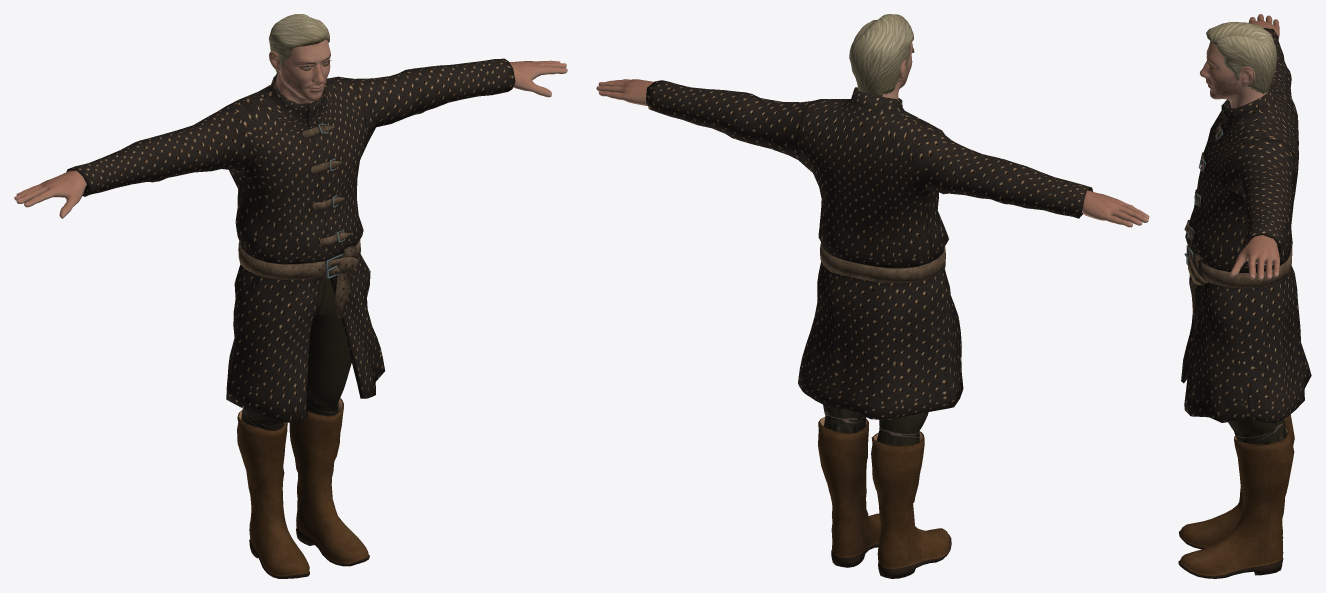
The model's file is torgovec.obj.
3 views of the same model, side by side, from view 1: azimuth 30°, elevation 25°; view 2: azimuth 150°, elevation 25°; view 3: azimuth 270°, elevation 25° (orthographic).
Visible parts, largest first — view 1: Tops, Shoes, Body, Bottoms, Hair; view 2: Tops, Shoes, Hair, Body, Bottoms; view 3: Tops, Shoes, Body, Hair, Bottoms.
Part boxes in pixels (box(x1,y1,x2,y2)): Tops: box(66, 58, 515, 422); Shoes: box(237, 398, 369, 578); Body: box(14, 39, 567, 218); Bottoms: box(241, 276, 351, 430); Hair: box(268, 14, 329, 75); Tops: box(646, 80, 1093, 419); Shoes: box(818, 417, 951, 578); Hair: box(849, 14, 913, 96); Body: box(596, 42, 1149, 227); Bottoms: box(823, 404, 928, 445); Tops: box(1181, 28, 1311, 423); Shoes: box(1178, 415, 1294, 578); Body: box(1199, 14, 1279, 280); Hair: box(1206, 22, 1277, 94); Bottoms: box(1206, 264, 1286, 444).
Size of the model in its own units: 194 by 182 by 41.06.
5 materials, 5 textured.
